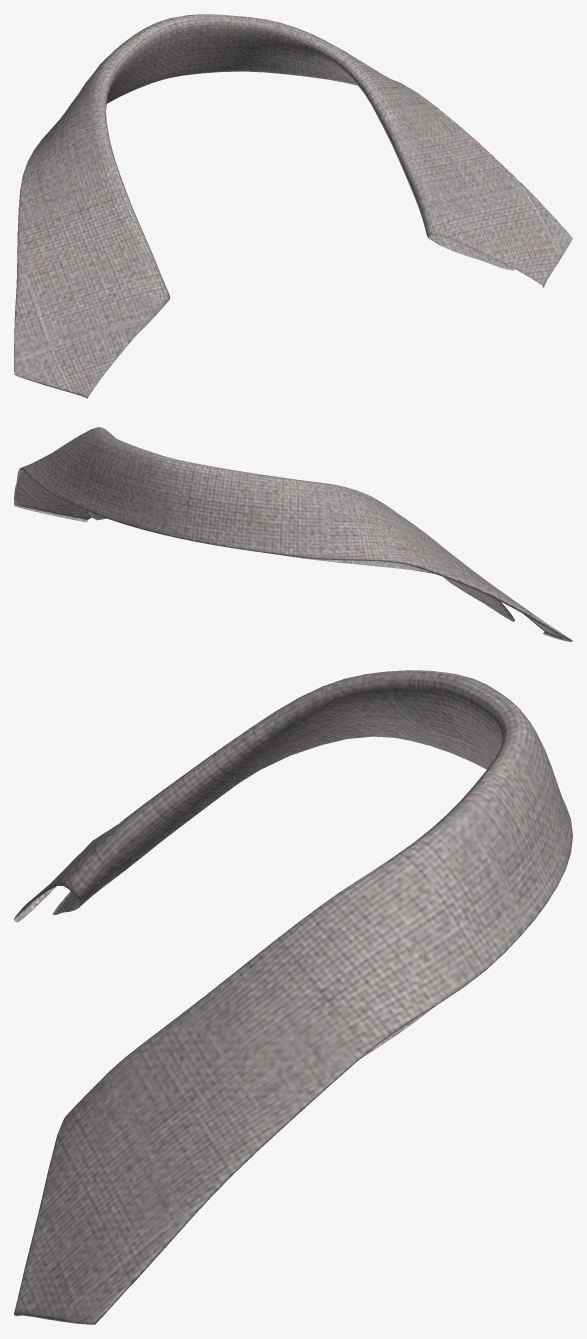
The model's file is peak_collar_wide.glb.
3 views of the same model, one above another, from view 1: azimuth 30°, elevation 25°; view 2: azimuth 150°, elevation 25°; view 3: azimuth 270°, elevation 25° (orthographic). The views are drawn at different scales.
Parts seen in each view (by area): view 1: peak_collar_wide; view 2: peak_collar_wide; view 3: peak_collar_wide.
Part boxes in pixels (box(x1,y1,x2,y2)): peak_collar_wide: box(14, 14, 572, 398); peak_collar_wide: box(14, 427, 572, 641); peak_collar_wide: box(14, 670, 572, 1324).
Size of the model in its own units: 0.0421 by 0.016 by 0.0206.
Materials: 1 (1 with a texture image).
